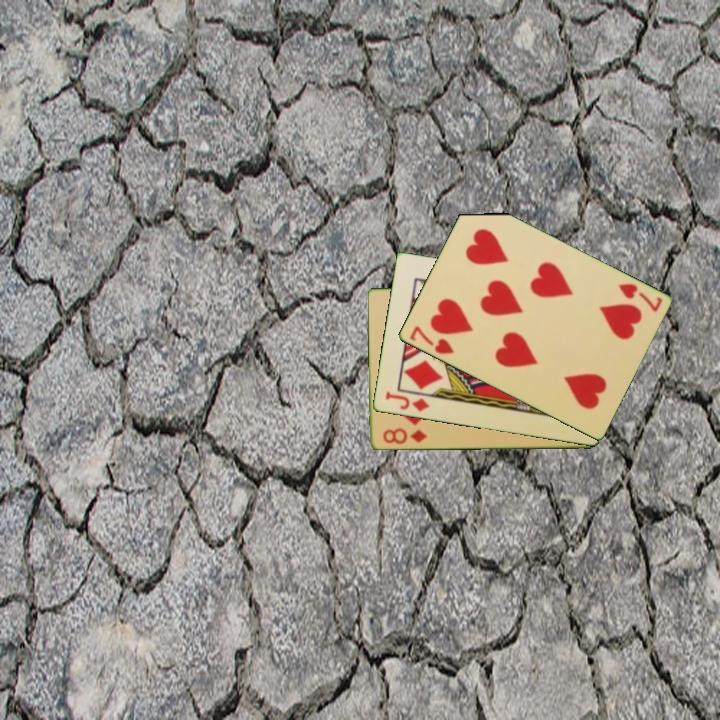7h: (406, 322, 457, 357), (614, 280, 665, 315)
8d: (379, 425, 429, 447)
Jd: (382, 388, 432, 415)
